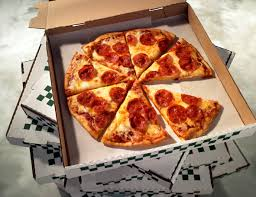pizza: (64, 34, 218, 143)
